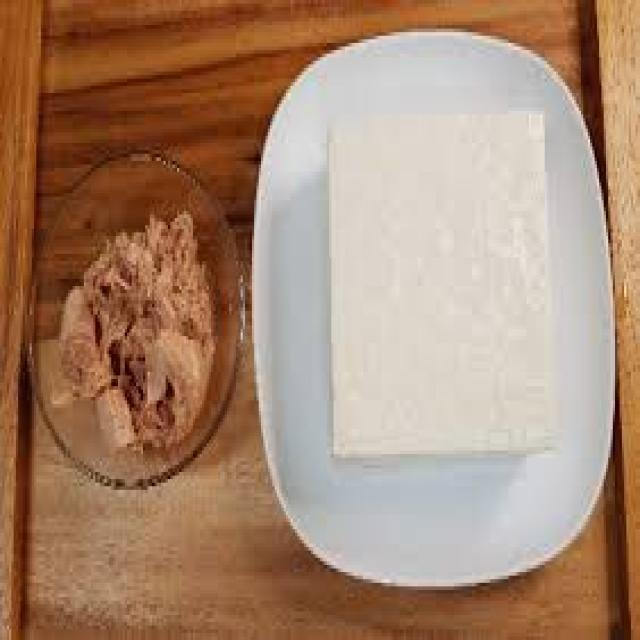tofu: (310, 103, 572, 473)
